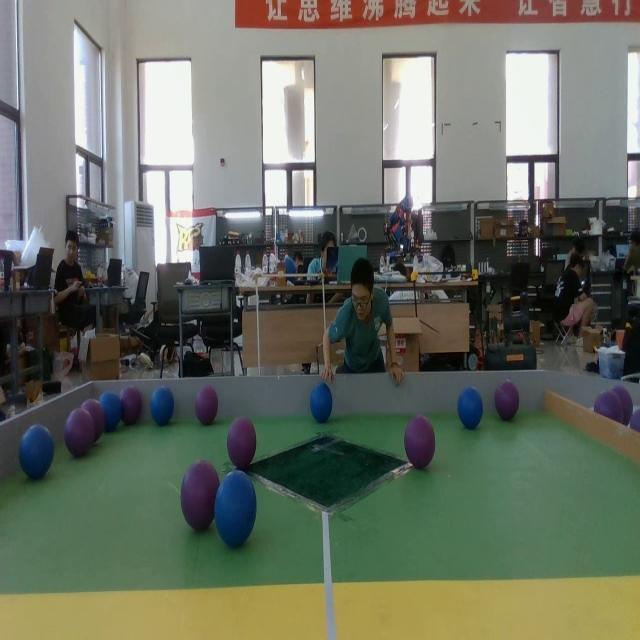blue: (214, 466, 256, 542), (19, 422, 54, 476), (457, 382, 483, 426), (308, 379, 332, 420), (150, 389, 174, 426), (100, 389, 118, 433)
invalid: (178, 456, 222, 536), (401, 412, 436, 470), (224, 418, 260, 473), (64, 410, 94, 460), (590, 386, 627, 424), (195, 386, 220, 433), (493, 379, 520, 418)
